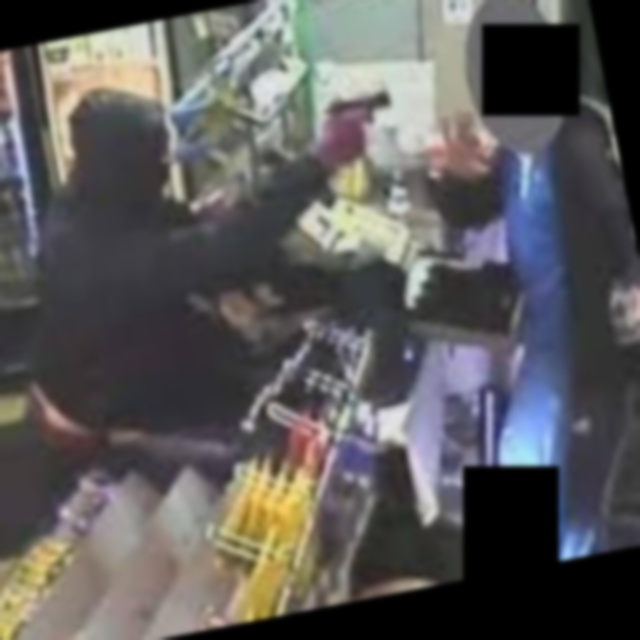gun: (314, 78, 402, 157)
